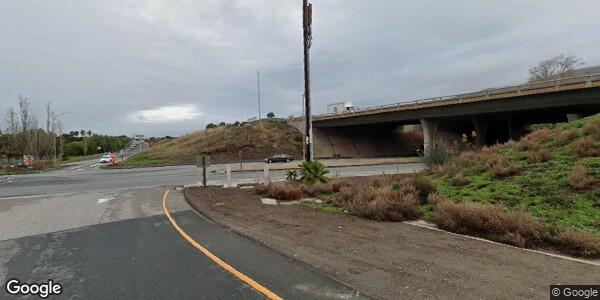Wood_Pole: (298, 1, 321, 183)
